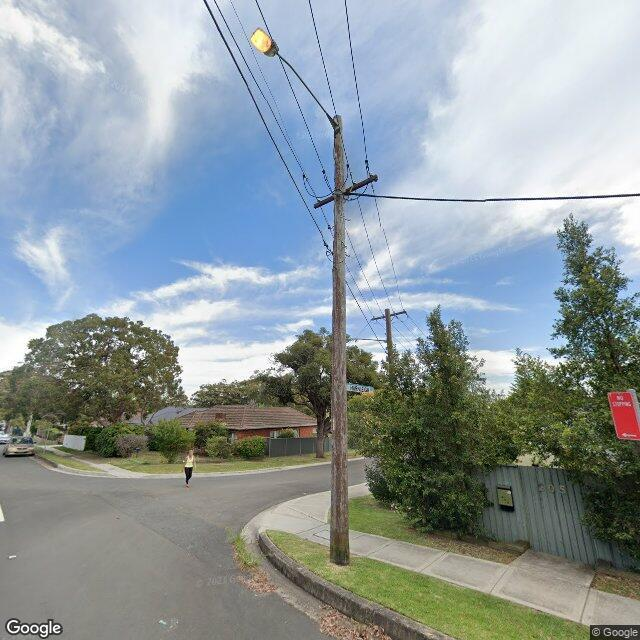crossarm: (314, 172, 379, 211), (372, 309, 406, 321)
streetlight: (250, 28, 340, 128)
timber-pole: (327, 112, 351, 564), (384, 308, 394, 383)
